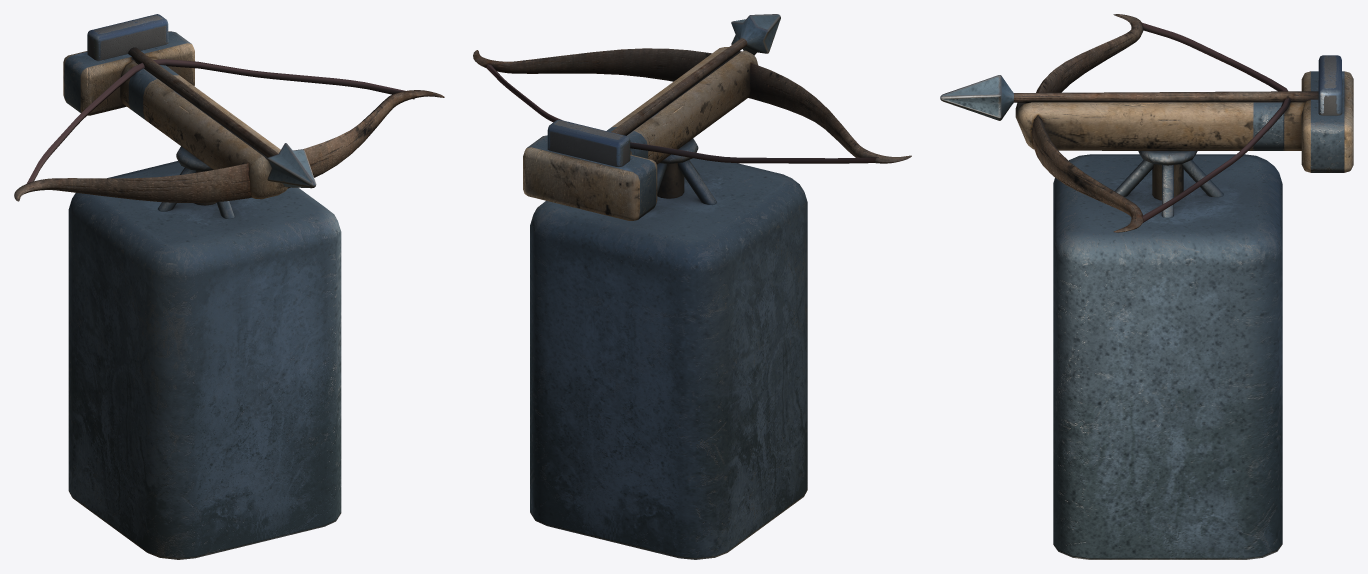
File: Obstacle-22.fbx
3 views of the same model, side by side, from view 1: azimuth 30°, elevation 25°; view 2: azimuth 150°, elevation 25°; view 3: azimuth 270°, elevation 25° (orthographic). The views are drawn at different scales.
Visible parts, largest first — view 1: Obstacle-22-Parent, Obstacle-22-Crossbow, Obstacle-22-Arrow; view 2: Obstacle-22-Parent, Obstacle-22-Crossbow, Obstacle-22-Arrow; view 3: Obstacle-22-Parent, Obstacle-22-Crossbow, Obstacle-22-Arrow.
Boxes of the visible parts, x1,y1,x2,y2 form: Obstacle-22-Parent: [68, 146, 341, 559]; Obstacle-22-Crossbow: [14, 14, 444, 202]; Obstacle-22-Arrow: [128, 47, 316, 188]; Obstacle-22-Parent: [530, 138, 807, 559]; Obstacle-22-Crossbow: [473, 47, 911, 220]; Obstacle-22-Arrow: [611, 14, 780, 135]; Obstacle-22-Parent: [1053, 151, 1282, 559]; Obstacle-22-Crossbow: [1015, 14, 1353, 232]; Obstacle-22-Arrow: [940, 75, 1318, 120].
Size of the model in its own units: 1.25 by 1.18 by 1.
